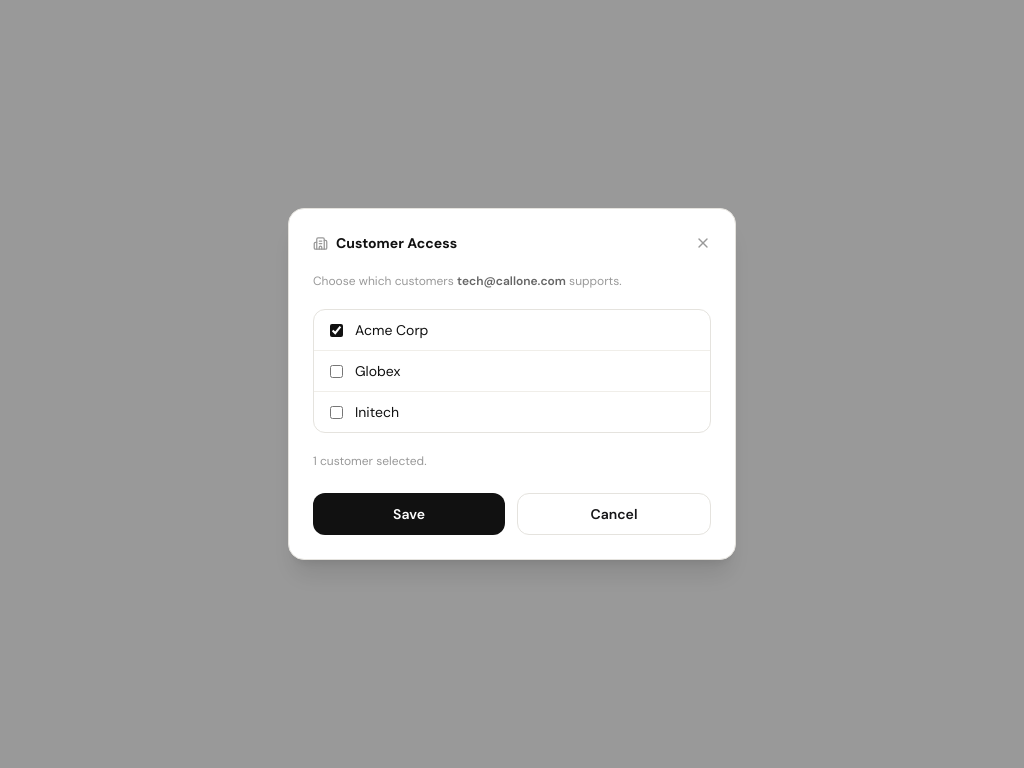
Scenario: CustomerAssignmentsModal › surfaces an error and keeps the modal open when the save fails
Click the checkbox labelled "Globex": click(336, 371) left=330, top=364, right=343, bottom=378
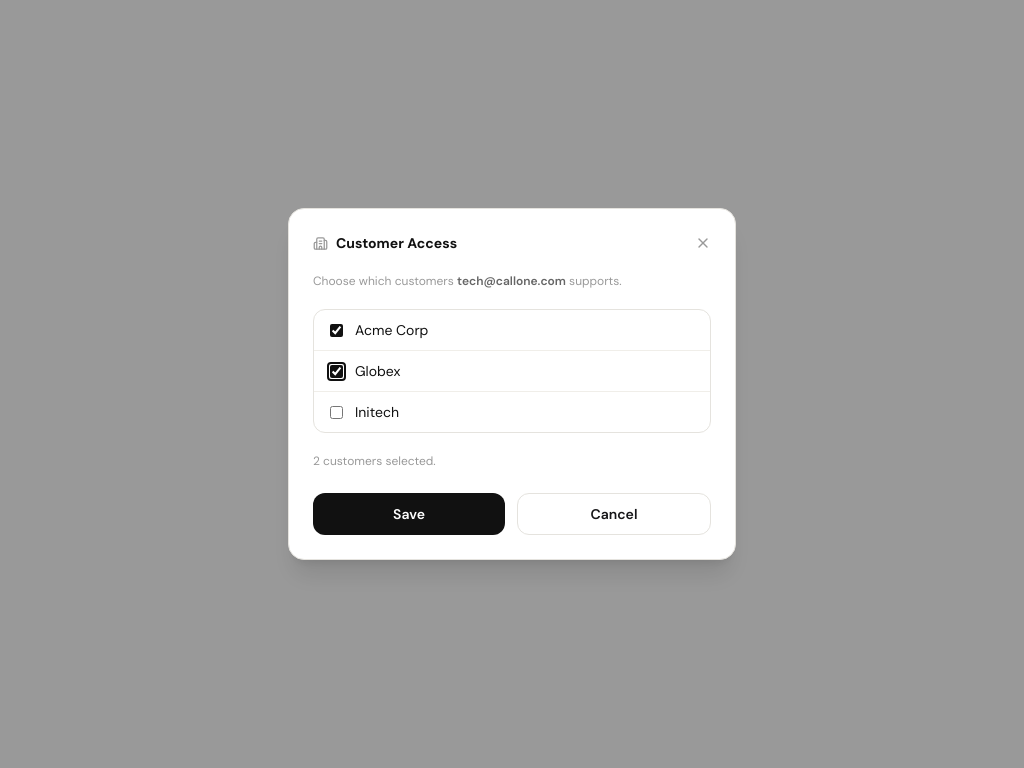
Click the button "Save": click(409, 514) left=313, top=493, right=505, bottom=535
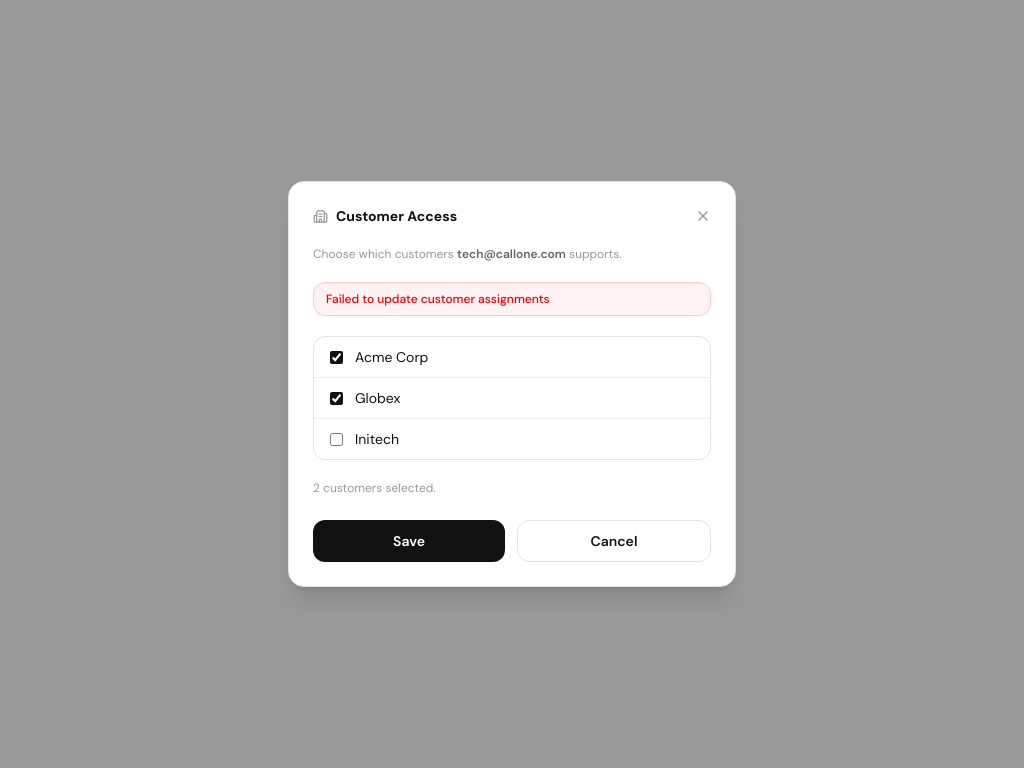
Expected: the text "Failed to update customer assignments" is shown, left=313, top=282, right=711, bottom=316
